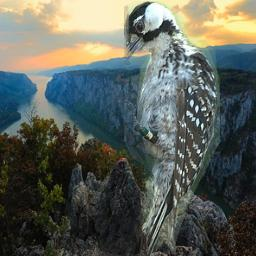Woodpecker: (124, 1, 220, 256)
